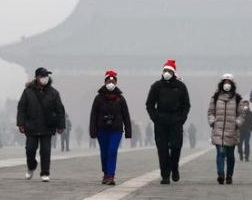person: (14, 66, 69, 183), (144, 58, 193, 186), (87, 68, 134, 186), (206, 73, 247, 186), (238, 100, 252, 162), (59, 113, 72, 153), (142, 122, 156, 146), (186, 121, 197, 148), (74, 125, 83, 145), (135, 123, 142, 147), (130, 121, 136, 148), (89, 138, 97, 149)
